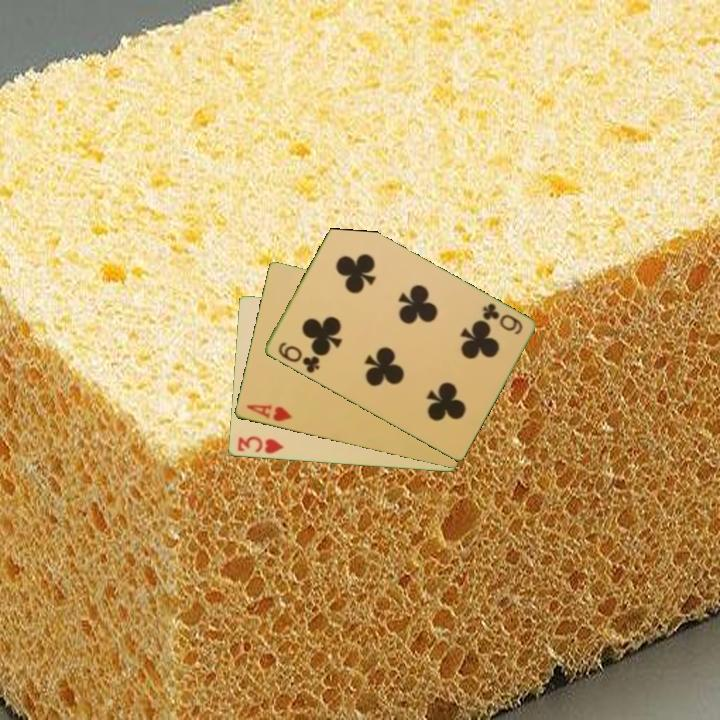3h: (234, 433, 286, 457)
6c: (274, 338, 322, 376), (479, 299, 525, 338)
Ah: (243, 401, 295, 425)
